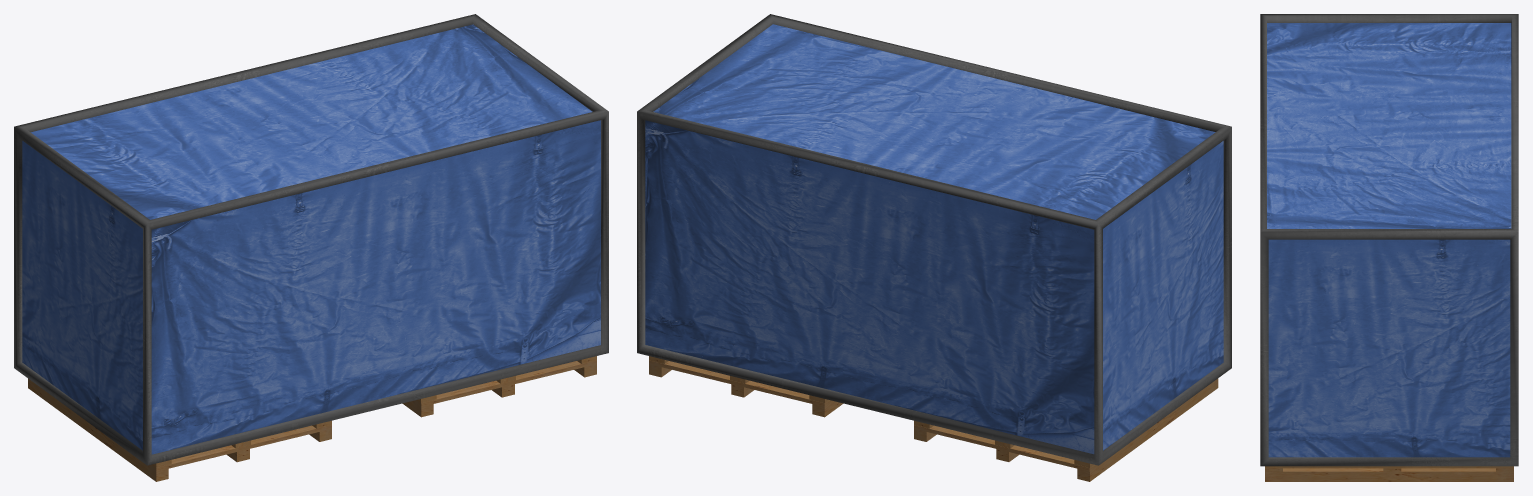
The model's file is Crate_tarp_Big.FBX.
3 views of the same model, side by side, from view 1: azimuth 30°, elevation 25°; view 2: azimuth 150°, elevation 25°; view 3: azimuth 270°, elevation 25° (orthographic). The views are drawn at different scales.
Parts seen in each view (by area): view 1: Crate_tarp_Big; view 2: Crate_tarp_Big; view 3: Crate_tarp_Big.
Part boxes in pixels (<box>): Crate_tarp_Big: <box>14,14,608,481</box>; Crate_tarp_Big: <box>637,14,1231,481</box>; Crate_tarp_Big: <box>1260,14,1518,481</box>.
Size of the model in its own units: 4.67 by 2.54 by 2.34.
